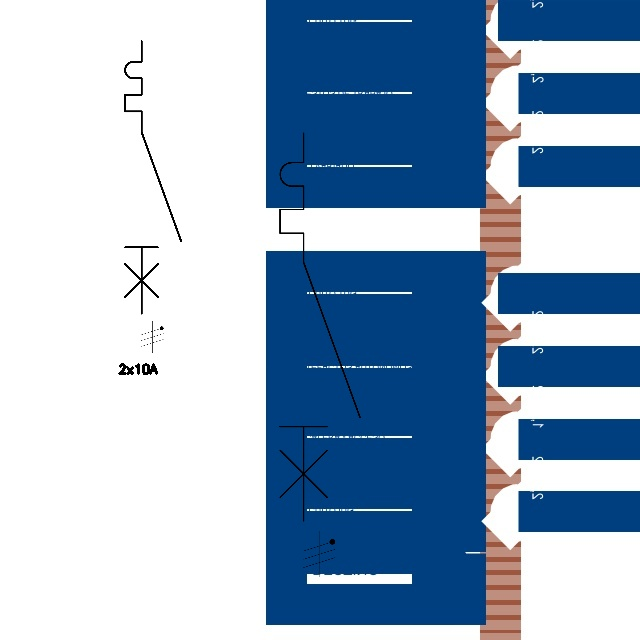interruptor_termomagnetico: (270, 123, 370, 531), (118, 34, 188, 321)
